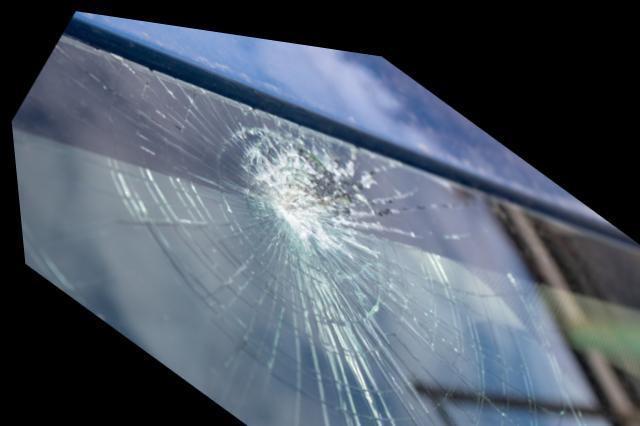glass shatter: (9, 32, 640, 426)
